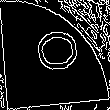O_W: (29, 31, 81, 79)
